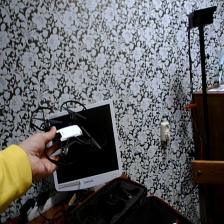drone: (27, 97, 110, 172)
